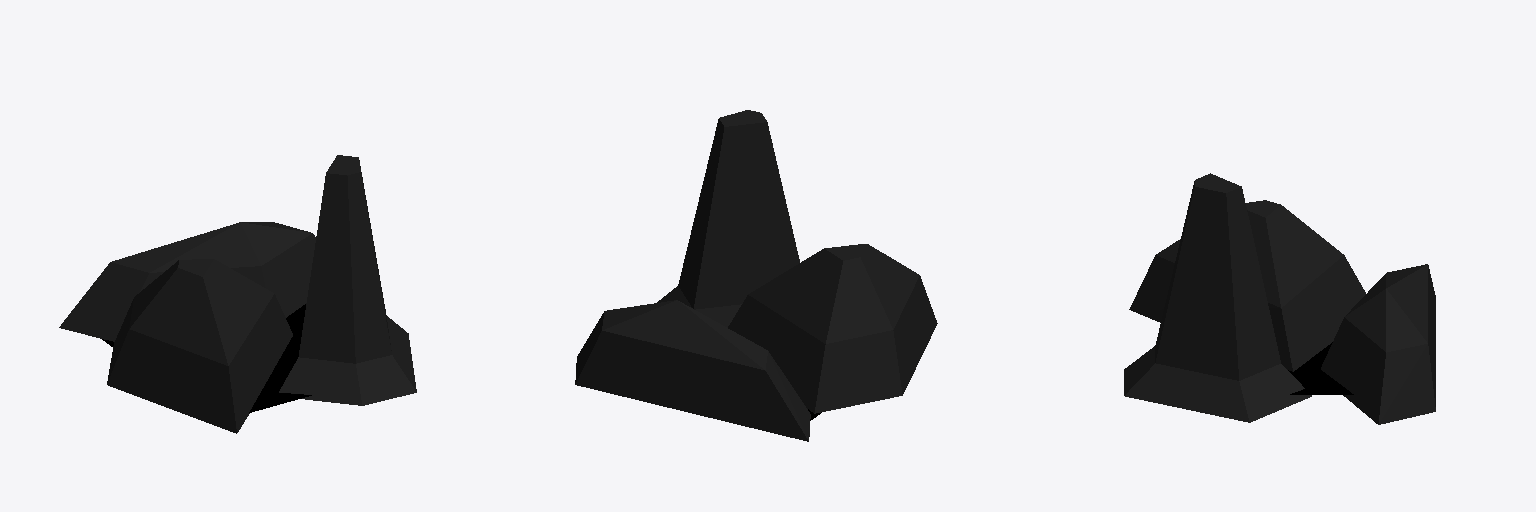
Rendered from rocks.obj.
The picture shows the model from 3 angles: view 1: azimuth 30°, elevation 25°; view 2: azimuth 150°, elevation 25°; view 3: azimuth 270°, elevation 25°; orthographic projection.
Size of the model in its own units: 125 by 84 by 119.